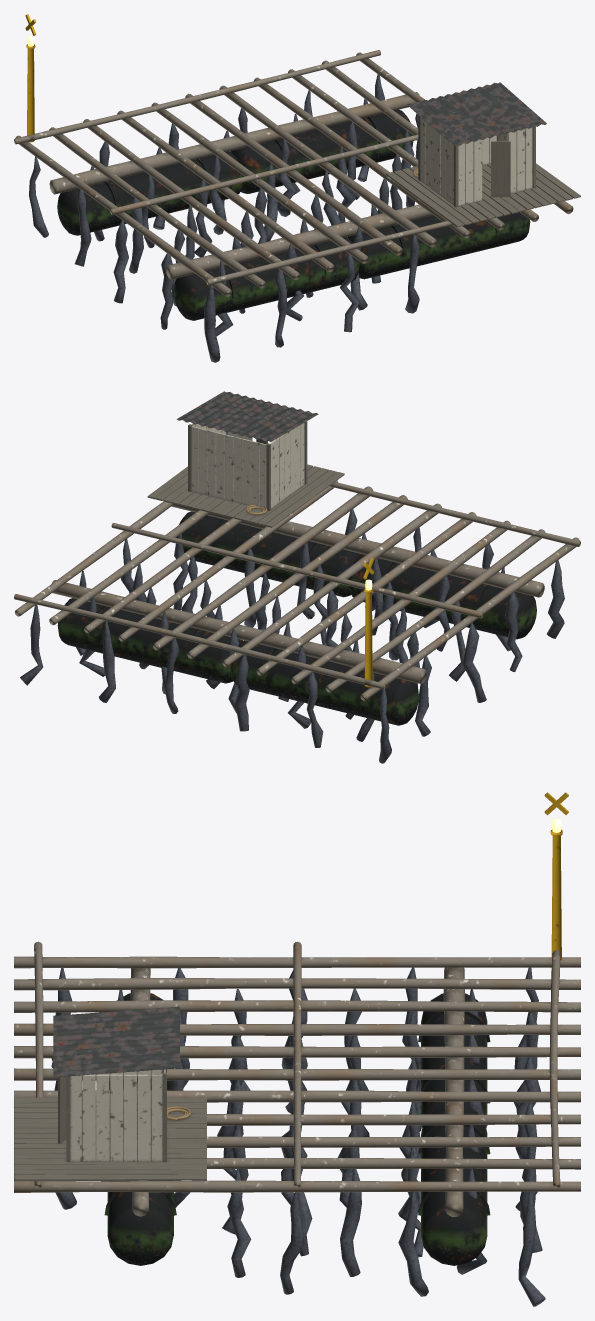
File: batea.glb
3 renders of one model, top to bottom at view 1: azimuth 30°, elevation 25°; view 2: azimuth 150°, elevation 25°; view 3: azimuth 270°, elevation 25°, orthographic. The views are drawn at different scales.
Visible parts, largest first — view 1: BateaTimber, BateaMetal, BateaMussel; view 2: BateaTimber, BateaMetal, BateaMussel; view 3: BateaTimber, BateaMetal, BateaMussel.
Part boxes in pixels (left/top/right/bottom): BateaTimber: left=14, top=50, right=580, bottom=296; BateaMetal: left=25, top=14, right=546, bottom=320; BateaMussel: left=29, top=74, right=419, bottom=362; BateaTimber: left=14, top=421, right=580, bottom=700; BateaMetal: left=57, top=391, right=536, bottom=725; BateaMussel: left=20, top=509, right=564, bottom=763; BateaTimber: left=14, top=941, right=580, bottom=1216; BateaMetal: left=53, top=792, right=568, bottom=1265; BateaMussel: left=51, top=967, right=545, bottom=1306.
Bounding box in the file's own units: 9.47 × 5.25 × 9.4.
4 materials, 3 textured.
